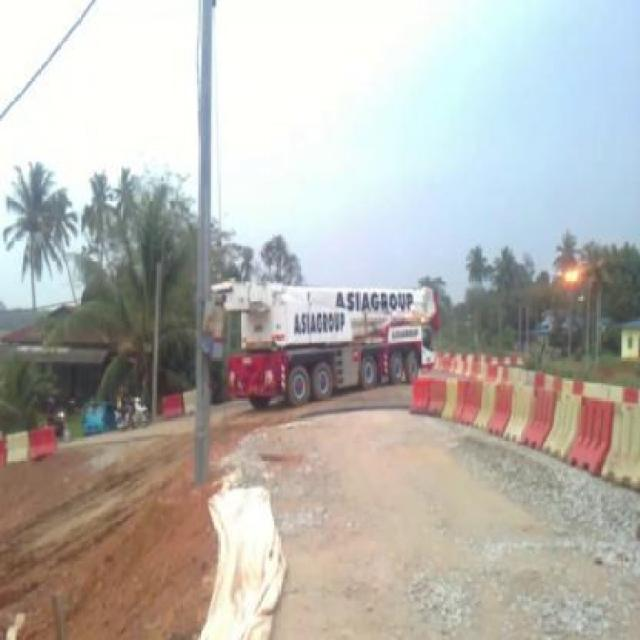Mobile Crane: (210, 255, 436, 363)
